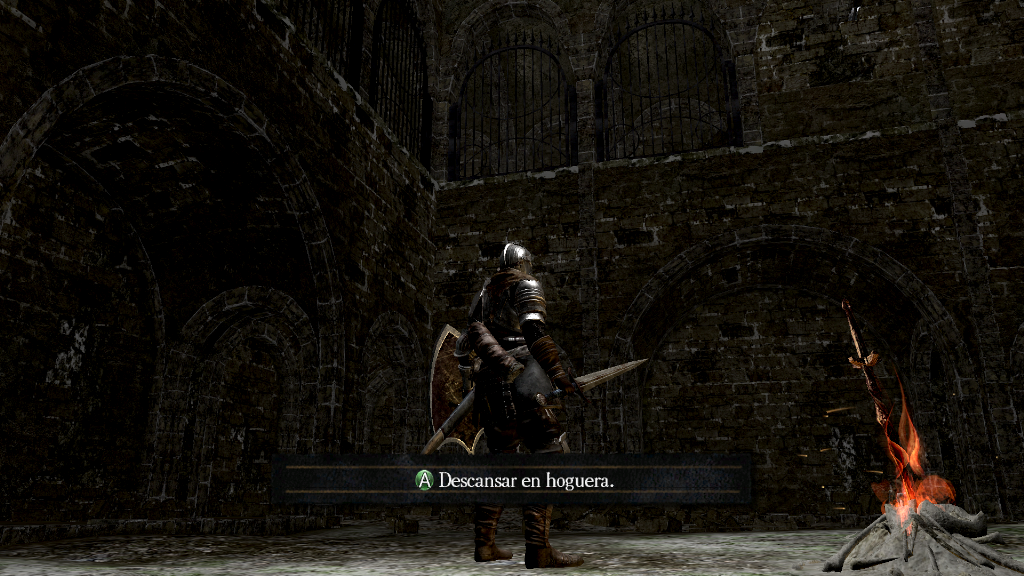bonfire: (827, 295, 1005, 557)
dialogBox: (272, 454, 753, 504)
player: (428, 242, 650, 570)
